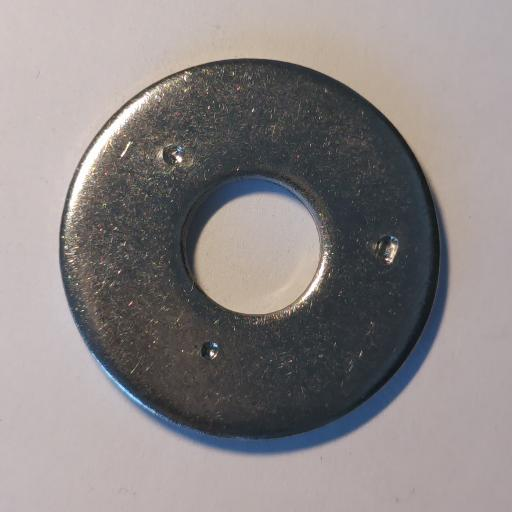circular_cavity: (372, 232, 399, 265), (160, 140, 186, 167), (201, 339, 221, 361)
